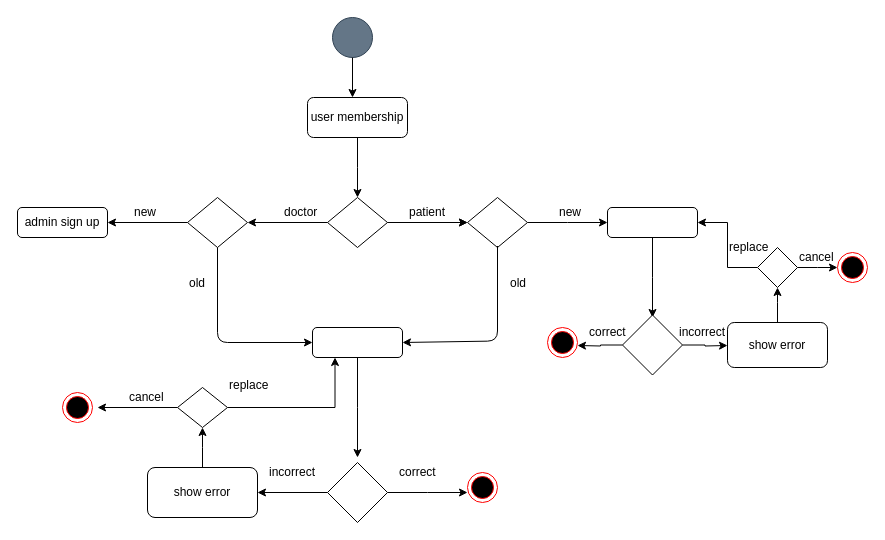
This 885x540 diagram has some shape labels left out. Here are the shapes that lost their labels. From the top down, the centre of each, then its label:
At (652,222): "insert user info".
At (357,342): "login".
